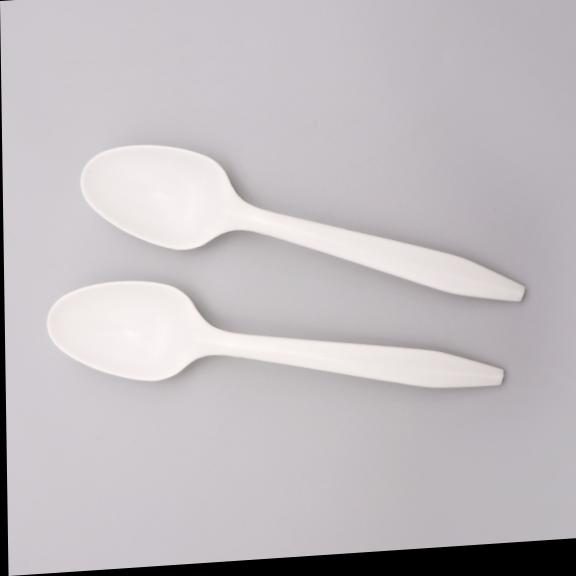Plastik: (82, 144, 524, 300), (48, 280, 503, 387)
